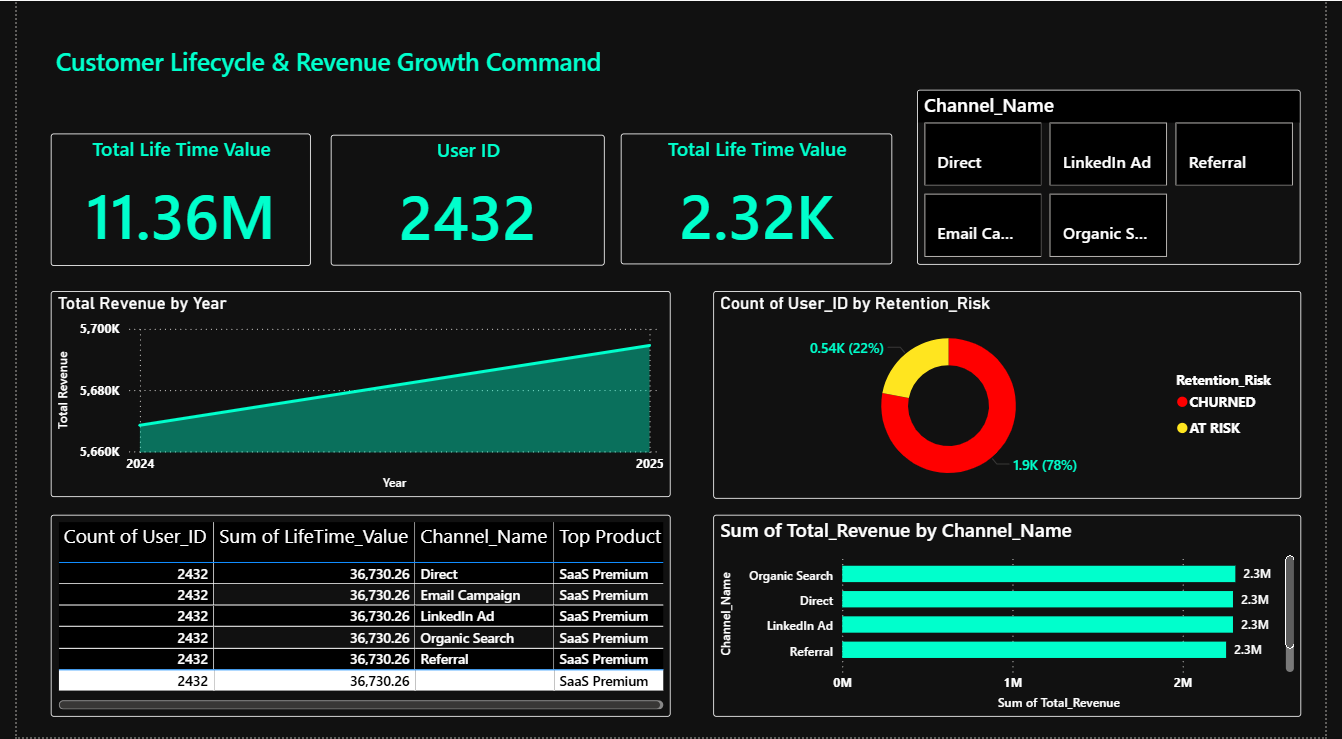

The page's visual inventory and layout, read from the dashboard file:
{"tool":"powerbi","page":{"name":"Page 1","canvas":[1280,720],"ordinal":0},"visuals":[{"type":"card","title":"Total Life Time Value ","fields":{"Values":["Sum(marketing_channel_roi.Total_Revenue)"]},"box":[33,129.6,254.3,129.6],"z":0},{"type":"card","title":"User ID","fields":{"Values":["CountNonNull(customer_retention_risk_analysis.User_ID)"]},"box":[306.9,130.8,267.8,128.4],"z":1},{"type":"card","title":"Total Life Time Value ","fields":{"Values":["Sum(marketing_channel_roi.Average_Order_Value)"]},"box":[590.6,129.6,265.4,128.4],"z":2},{"type":"areaChart","fields":{"Category":["monthly_revenue_velocity.Sales_Month.Variation.Date Hierarchy.Year","monthly_revenue_velocity.Sales_Month.Variation.Date Hierarchy.Quarter","monthly_revenue_velocity.Sales_Month.Variation.Date Hierarchy.Month","monthly_revenue_velocity.Sales_Month.Variation.Date Hierarchy.Day"],"Y":["monthly_revenue_velocity.Total Revenue"]},"box":[32.9,284,606.5,201.7],"z":3},{"type":"donutChart","fields":{"Category":["customer_retention_risk_analysis.Retention_Risk"],"Y":["CountNonNull(customer_retention_risk_analysis.User_ID)"]},"box":[680.6,284,575,203.1],"z":4},{"type":"tableEx","fields":{"Values":["CountNonNull(customer_retention_risk_analysis.User_ID)","Sum(top_5_whale_customers.LifeTime_Value)","marketing_channel_roi.Channel_Name","top_5_whale_customers.Top Product"]},"box":[32.9,502.2,606.5,197.6],"z":5},{"type":"clusteredBarChart","fields":{"Category":["marketing_channel_roi.Channel_Name"],"Y":["Sum(marketing_channel_roi.Total_Revenue)"]},"box":[680.6,502.2,575,197.6],"z":6},{"type":"advancedSlicerVisual","fields":{"Values":["marketing_channel_roi.Channel_Name"]},"box":[880.4,86.8,375.4,171.2],"z":7},{"type":"textbox","box":[33,37.9,600.4,48.9],"z":8}]}

Visuals, with their boxes in screenshot pixels (x1, y1, x2, y2), scaled from the page's 1280x720 canvas onto the 1342x739 screenshot:
"Total Life Time Value " card: (35, 133, 301, 266)
"User ID" card: (322, 134, 603, 266)
"Total Life Time Value " card: (619, 133, 897, 265)
areaChart - monthly_revenue_velocity.Sales_Month.Variation.Date Hierarchy.Year x monthly_revenue_velocity.Sales_Month.Variation.Date Hierarchy.Quarter: (34, 291, 670, 499)
donutChart - customer_retention_risk_analysis.Retention_Risk x CountNonNull(customer_retention_risk_analysis.User_ID): (714, 291, 1316, 500)
tableEx - CountNonNull(customer_retention_risk_analysis.User_ID) x Sum(top_5_whale_customers.LifeTime_Value): (34, 515, 670, 718)
clusteredBarChart - marketing_channel_roi.Channel_Name x Sum(marketing_channel_roi.Total_Revenue): (714, 515, 1316, 718)
advancedSlicerVisual - marketing_channel_roi.Channel_Name: (923, 89, 1317, 265)
textbox: (35, 39, 664, 89)
